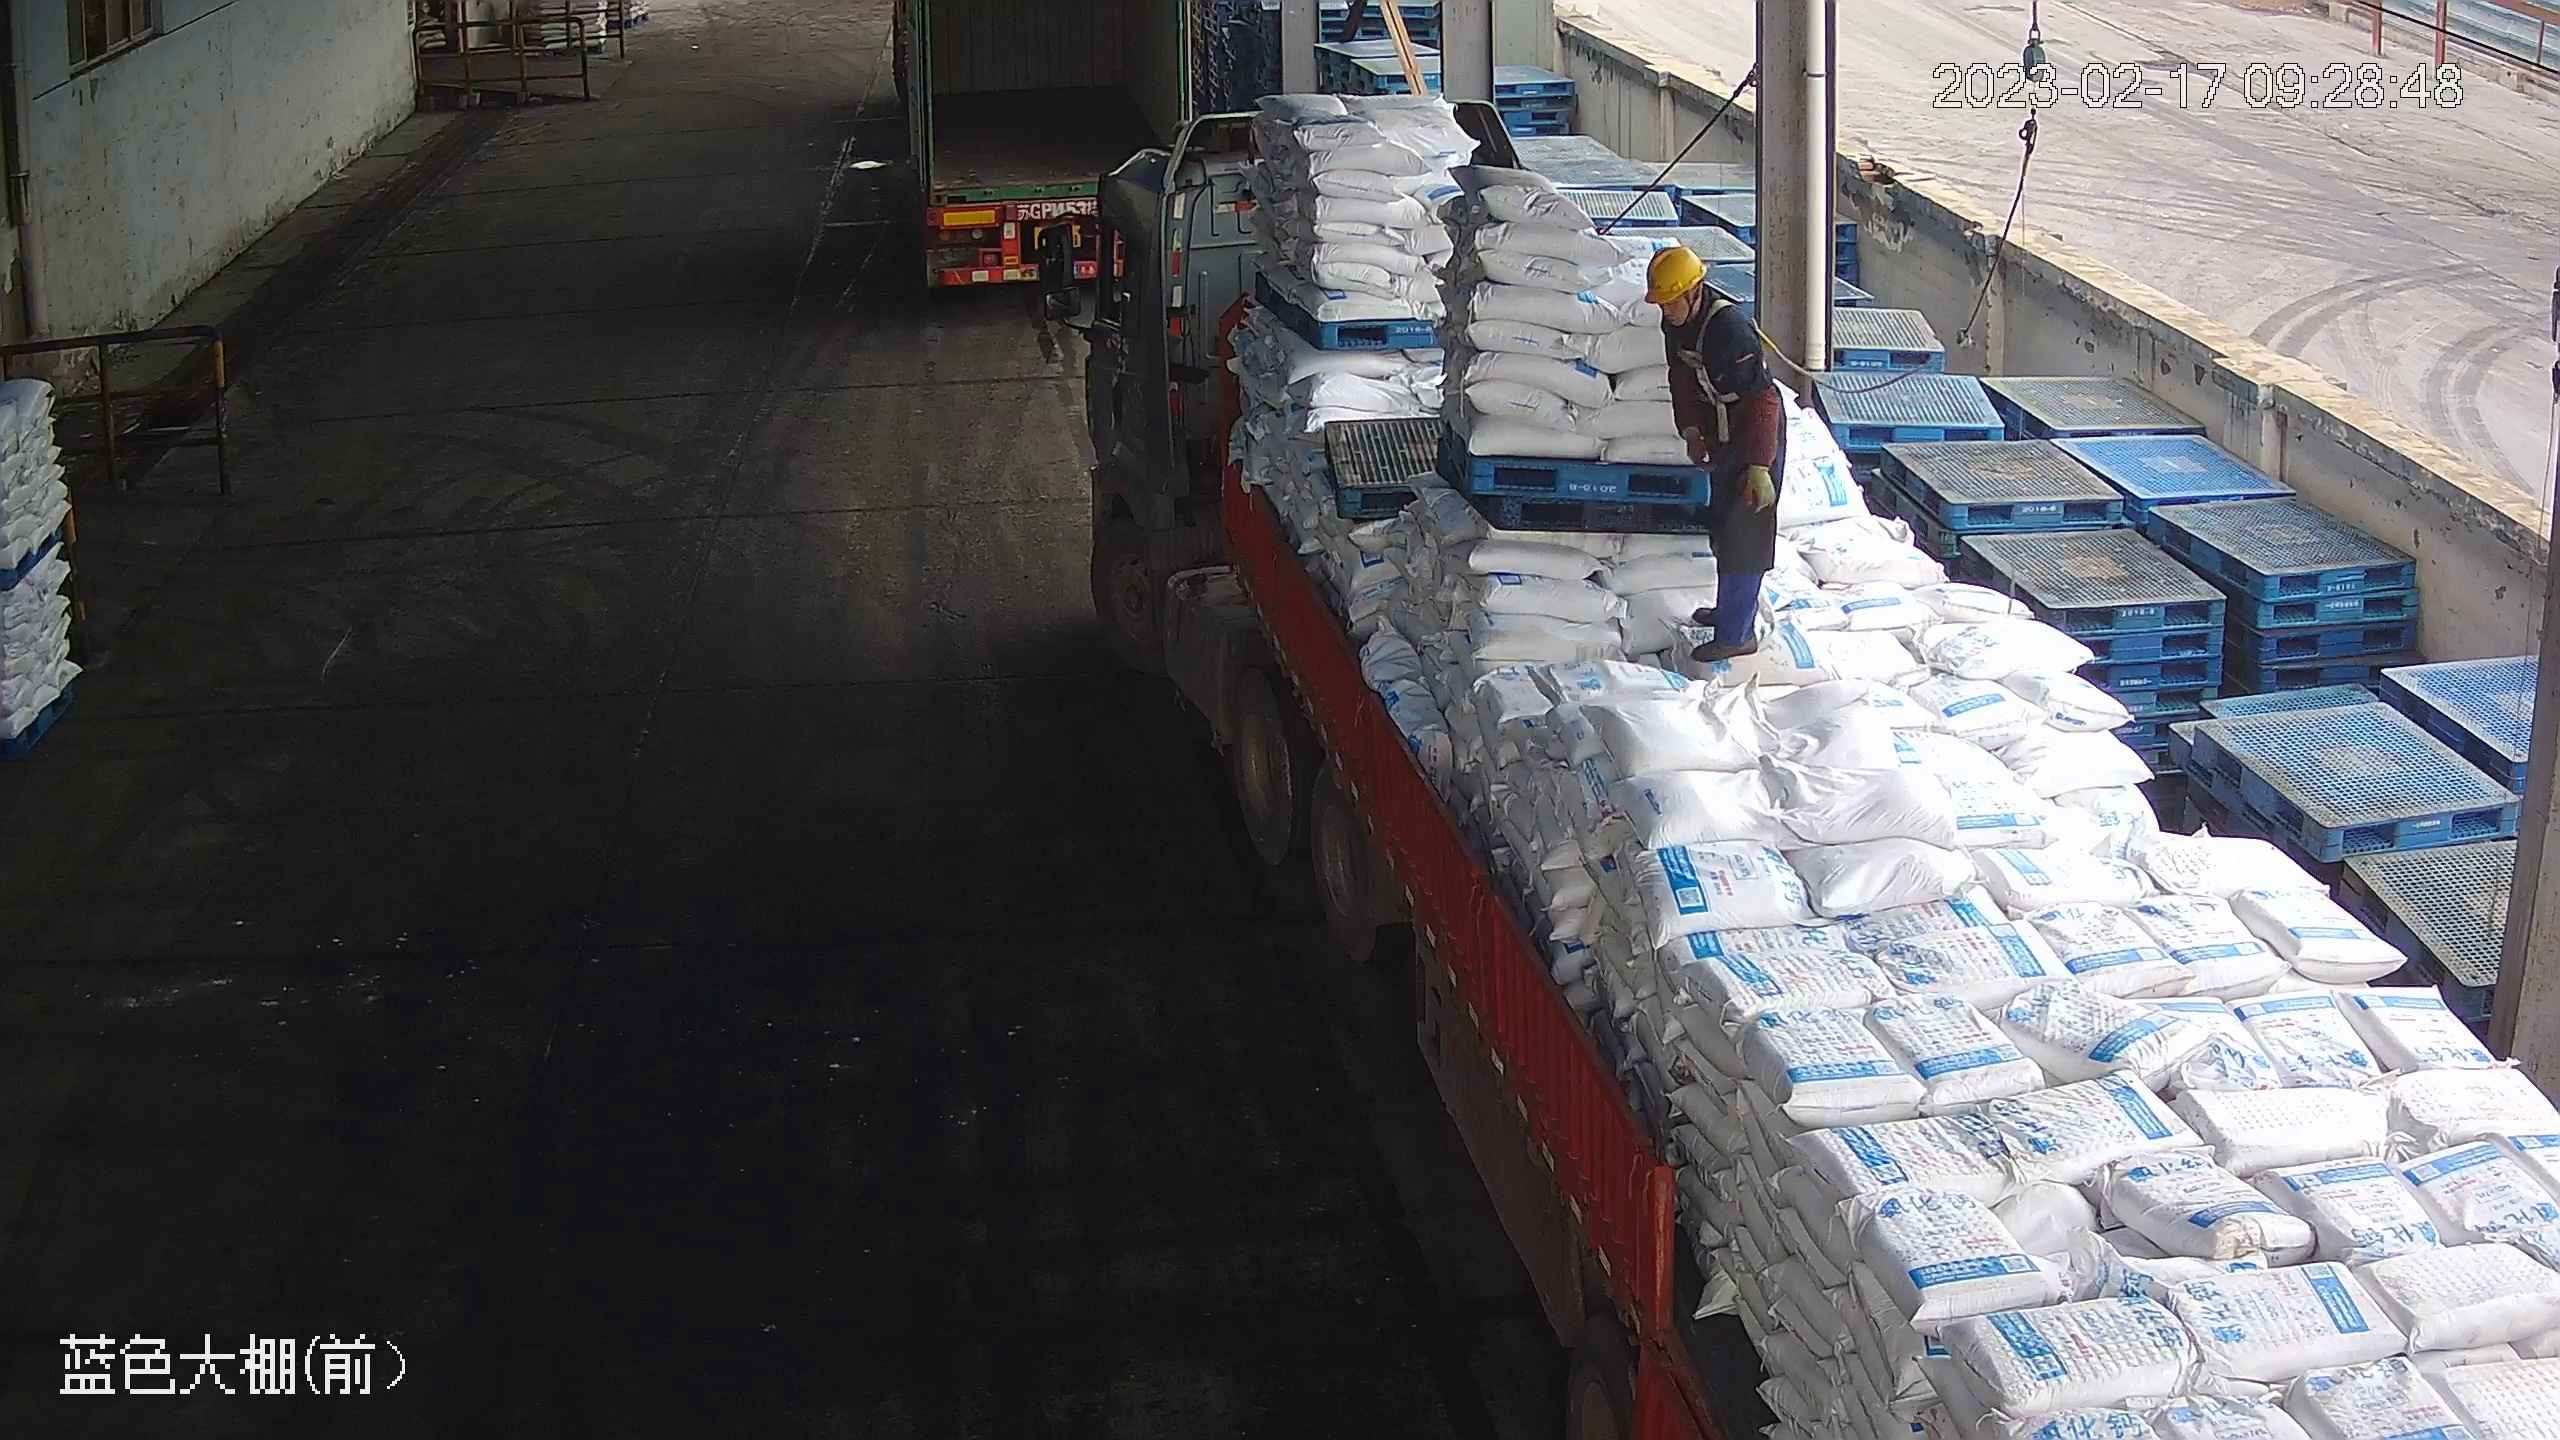belt: (1669, 301, 1757, 417)
helmet: (1645, 245, 1710, 306)
people: (1644, 245, 1788, 662), (1647, 245, 1764, 374)
truck: (1035, 105, 2560, 1440), (886, 5, 1215, 300)
